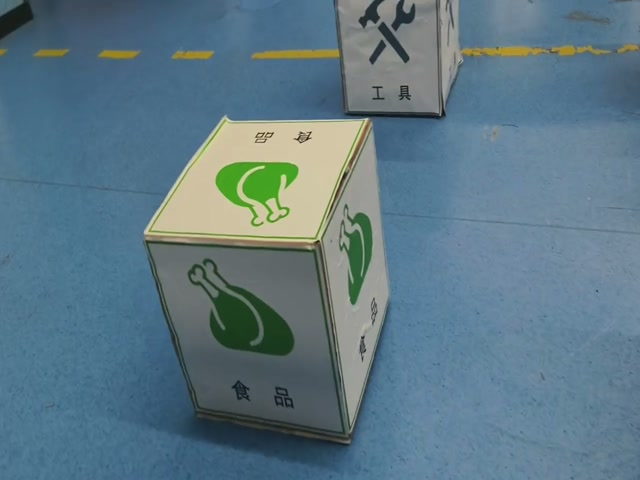Cube_food: (134, 112, 375, 251)
